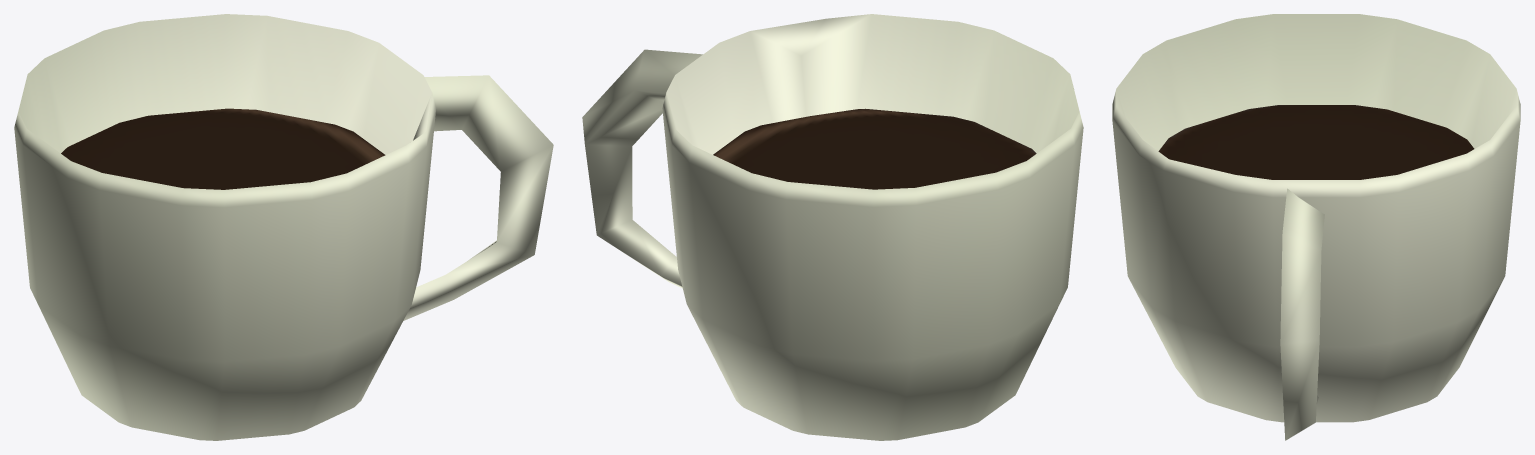
The model's file is Coffee_Cup_A.FBX.
3 renders of one model, left to right at view 1: azimuth 30°, elevation 25°; view 2: azimuth 150°, elevation 25°; view 3: azimuth 270°, elevation 25°, orthographic. The views are drawn at different scales.
Visible parts, largest first — view 1: Cup; view 2: Cup; view 3: Cup.
Boxes of the visible parts, bbox=[...] form: Cup: bbox=[14, 14, 553, 440]; Cup: bbox=[582, 14, 1083, 440]; Cup: bbox=[1112, 14, 1520, 440].
Bounding box in the file's own units: 45.6 × 24.65 × 34.07.
